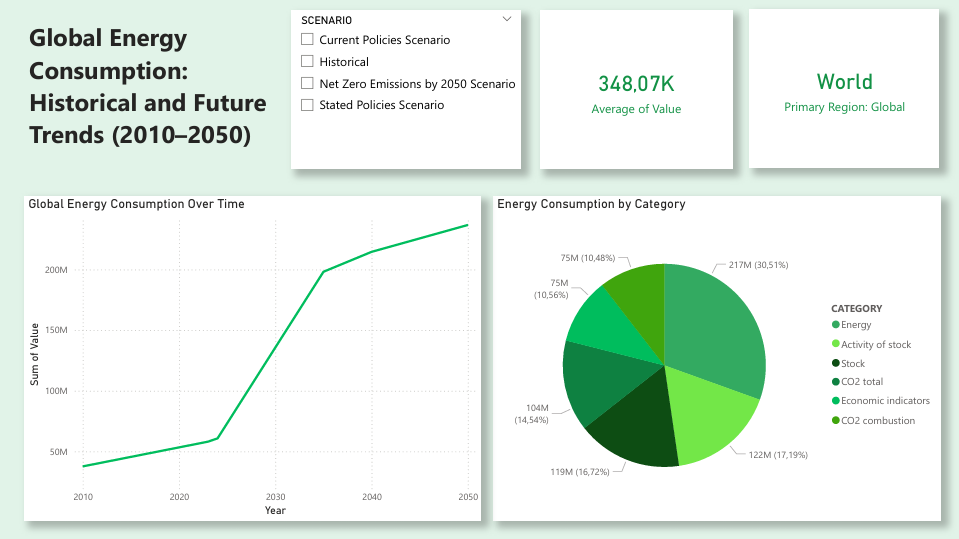

The dashboard page shown, as its layout file describes it:
{"tool":"powerbi","page":{"name":"Page 2","canvas":[1280,720],"ordinal":1},"visuals":[{"type":"pieChart","title":"Energy Consumption by Category","fields":{"Category":["WEO2025_AnnexA_Free_Dataset_World.CATEGORY"],"Y":["Sum(WEO2025_AnnexA_Free_Dataset_World.VALUE)"]},"box":[656,264,594,430],"z":0},{"type":"lineChart","title":"Global Energy Consumption Over Time","fields":{"Category":["WEO2025_AnnexA_Free_Dataset_World.YEAR"],"Y":["Sum(WEO2025_AnnexA_Free_Dataset_World.VALUE)"]},"box":[34,264,606,430],"z":1000},{"type":"card","fields":{"Values":["Avg(WEO2025_AnnexA_Free_Dataset_World.VALUE)"]},"box":[718.3,18.3,255,210],"z":2000},{"type":"card","fields":{"Values":["Min(WEO2025_AnnexA_Free_Dataset_World.REGION)"]},"box":[996,16,252,210],"z":3000},{"type":"slicer","fields":{"Values":["WEO2025_AnnexA_Free_Dataset_World.SCENARIO"]},"box":[387.5,17.5,305,210],"z":4000},{"type":"textbox","box":[35,25,335,190],"z":5000}]}

Visuals, with their boxes in screenshot pixels (x1, y1, x2, y2), scaled from the page's 1280x720 canvas onto the 959x539 screenshot:
"Energy Consumption by Category" pieChart: [491, 198, 937, 520]
"Global Energy Consumption Over Time" lineChart: [25, 198, 480, 520]
card - Avg(WEO2025_AnnexA_Free_Dataset_World.VALUE): [538, 14, 729, 171]
card - Min(WEO2025_AnnexA_Free_Dataset_World.REGION): [746, 12, 935, 169]
slicer - WEO2025_AnnexA_Free_Dataset_World.SCENARIO: [290, 13, 519, 170]
textbox: [26, 19, 277, 161]
